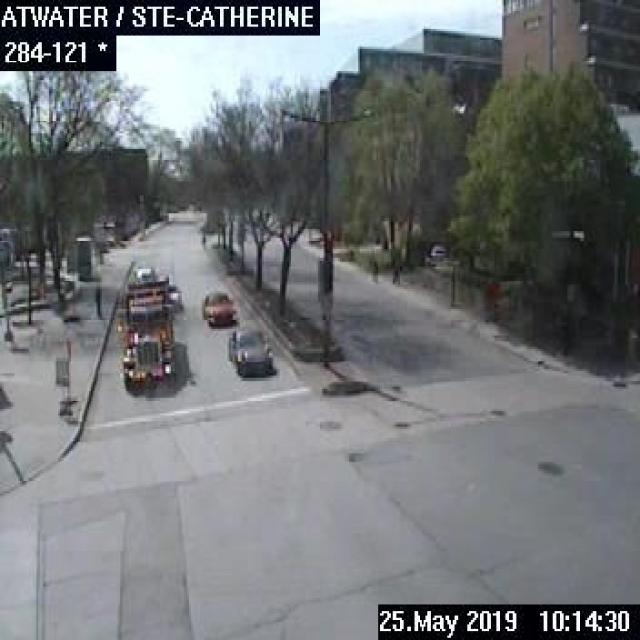pedestrian: (91, 280, 104, 320), (369, 254, 378, 284), (198, 227, 206, 251)
vehicle: (116, 266, 174, 394), (226, 324, 275, 376), (200, 288, 232, 324), (166, 280, 180, 307)
